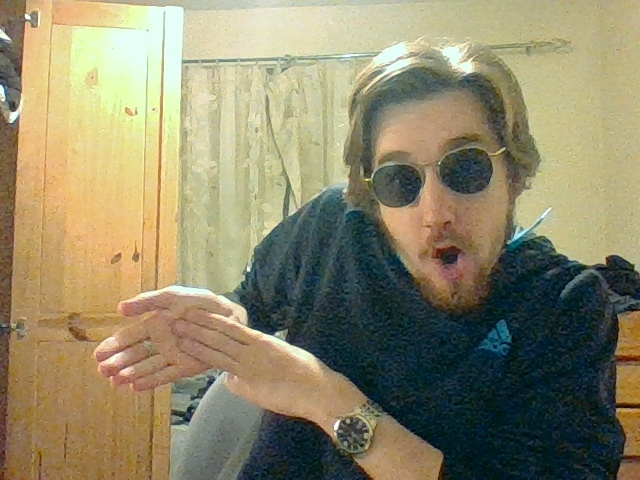mother: (94, 285, 250, 389)
